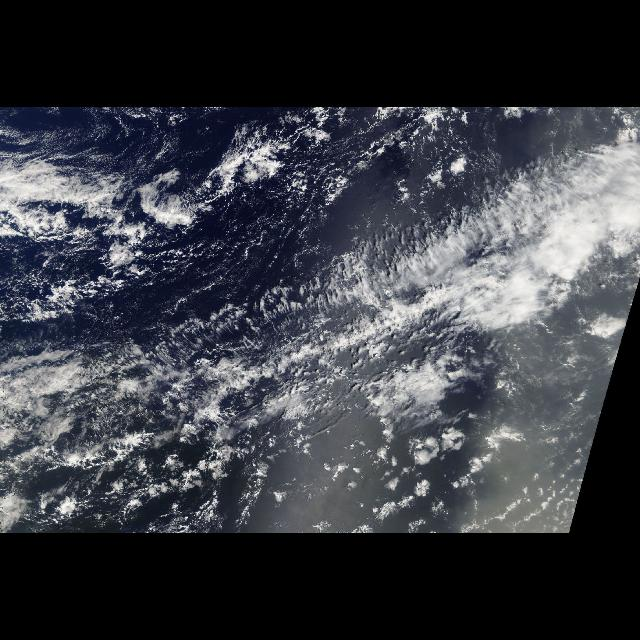Fish: (152, 264, 366, 444)
Flower: (356, 420, 494, 486)
Gravel: (292, 115, 386, 189), (170, 244, 300, 290)
